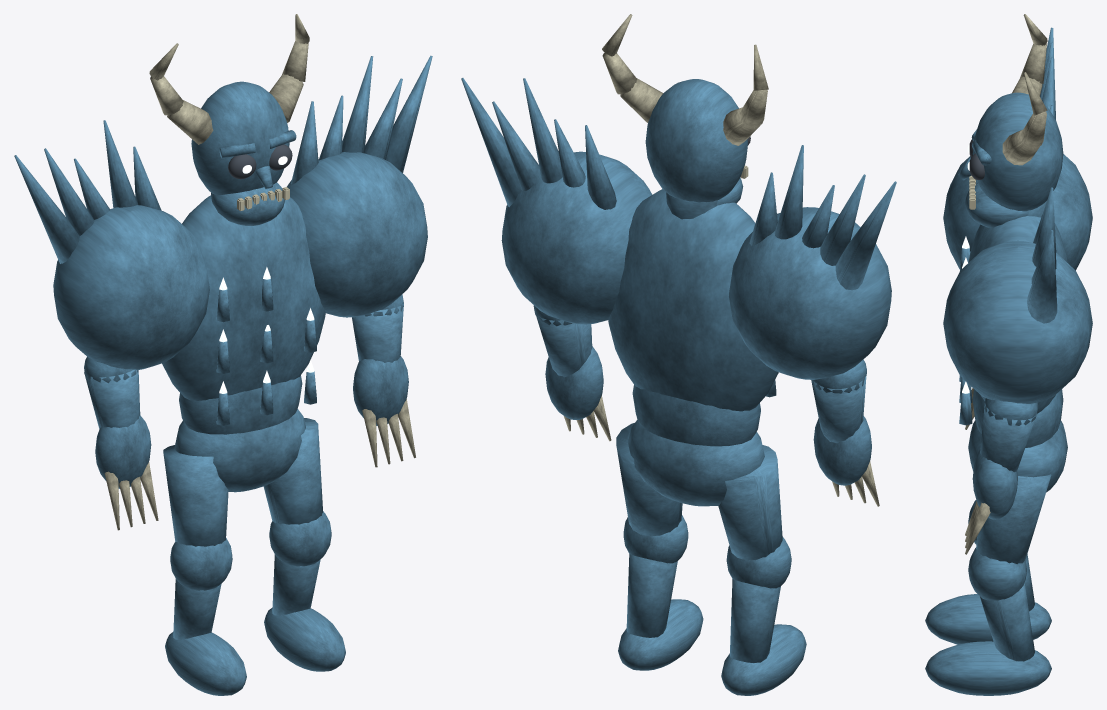
The model's file is enemy_ice_golem.glb.
3 views of the same model, side by side, from view 1: azimuth 30°, elevation 25°; view 2: azimuth 150°, elevation 25°; view 3: azimuth 270°, elevation 25° (orthographic). The views are drawn at different scales.
Visible parts, largest first — view 1: Blue_glacial_ice.006, Blue_glacial_ice, Blue_glacial_ice.001, Blue_glacial_ice.003, Blue_glacial_ice.005, Blue_glacial_ice.002, Blue_glacial_ice.004, Aged_bone.002, Aged_bone.001, Aged_bone, Eye_socket; view 2: Blue_glacial_ice.006, Blue_glacial_ice, Blue_glacial_ice.001, Blue_glacial_ice.003, Blue_glacial_ice.005, Blue_glacial_ice.002, Blue_glacial_ice.004, Aged_bone.002; view 3: Blue_glacial_ice.006, Blue_glacial_ice.003, Blue_glacial_ice.005, Blue_glacial_ice, Blue_glacial_ice.004, Blue_glacial_ice.001, Aged_bone.002, Aged_bone.001, Eye_socket.
Part boxes in pixels (x1,y1,x2,y2): Blue_glacial_ice.006: [14, 55, 432, 425]; Blue_glacial_ice: [162, 195, 325, 492]; Blue_glacial_ice.001: [163, 445, 246, 695]; Blue_glacial_ice.003: [263, 418, 345, 671]; Blue_glacial_ice.005: [191, 81, 296, 225]; Blue_glacial_ice.002: [84, 357, 151, 488]; Blue_glacial_ice.004: [352, 294, 408, 425]; Aged_bone.002: [149, 14, 309, 210]; Aged_bone.001: [362, 399, 415, 467]; Aged_bone: [104, 462, 158, 530]; Eye_socket: [228, 144, 292, 179]; Blue_glacial_ice.006: [461, 78, 896, 397]; Blue_glacial_ice: [608, 189, 778, 506]; Blue_glacial_ice.001: [718, 445, 806, 695]; Blue_glacial_ice.003: [616, 423, 703, 670]; Blue_glacial_ice.005: [645, 79, 747, 219]; Blue_glacial_ice.002: [811, 359, 871, 485]; Blue_glacial_ice.004: [533, 305, 603, 419]; Aged_bone.002: [602, 14, 768, 178]; Blue_glacial_ice.006: [943, 27, 1092, 425]; Blue_glacial_ice.003: [925, 474, 1051, 695]; Blue_glacial_ice.005: [958, 92, 1063, 227]; Blue_glacial_ice: [968, 216, 1067, 492]; Blue_glacial_ice.004: [972, 398, 1038, 519]; Blue_glacial_ice.001: [925, 500, 1051, 644]; Aged_bone.002: [969, 14, 1047, 209]; Aged_bone.001: [965, 501, 990, 554]; Eye_socket: [969, 139, 984, 179].
Size of the model in its own units: 2.85 by 4.11 by 0.999.
Materials: 4 (2 with a texture image).
